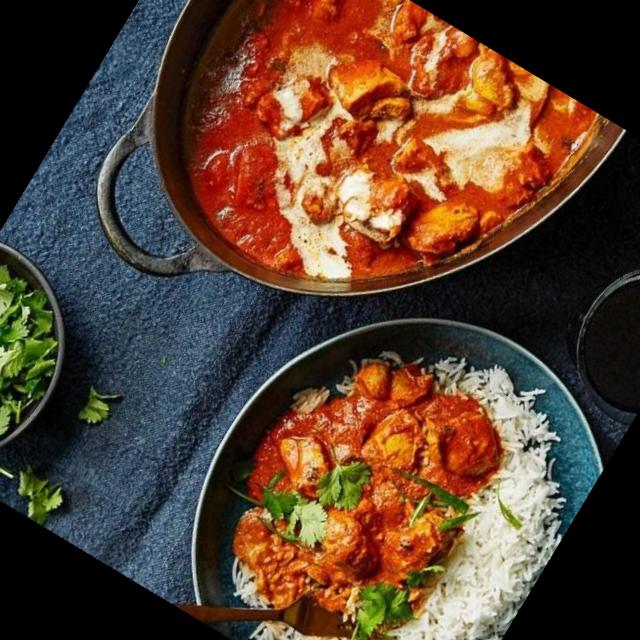chicken: (155, 0, 600, 357), (195, 333, 510, 640)
rice: (379, 437, 587, 640)
